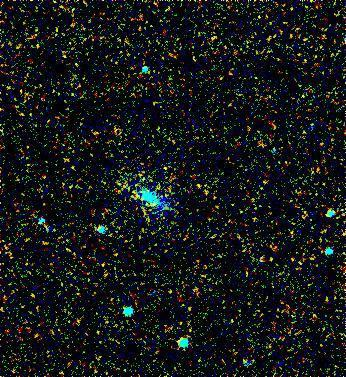star: (182, 169, 212, 199)
